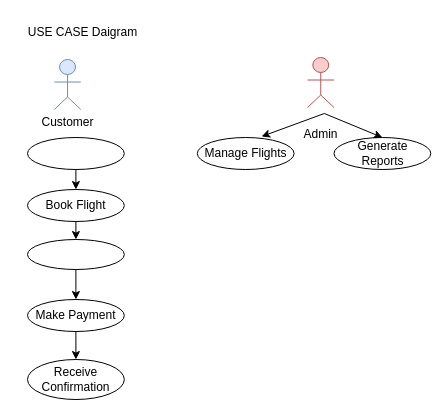
This 448x417 diagram has some shape labels left out. Here are the shapes that lost their labels. From the top down, the centre of each, then its label:
At (75,153): "Search Flights".
At (75,254): "Select Seat".
